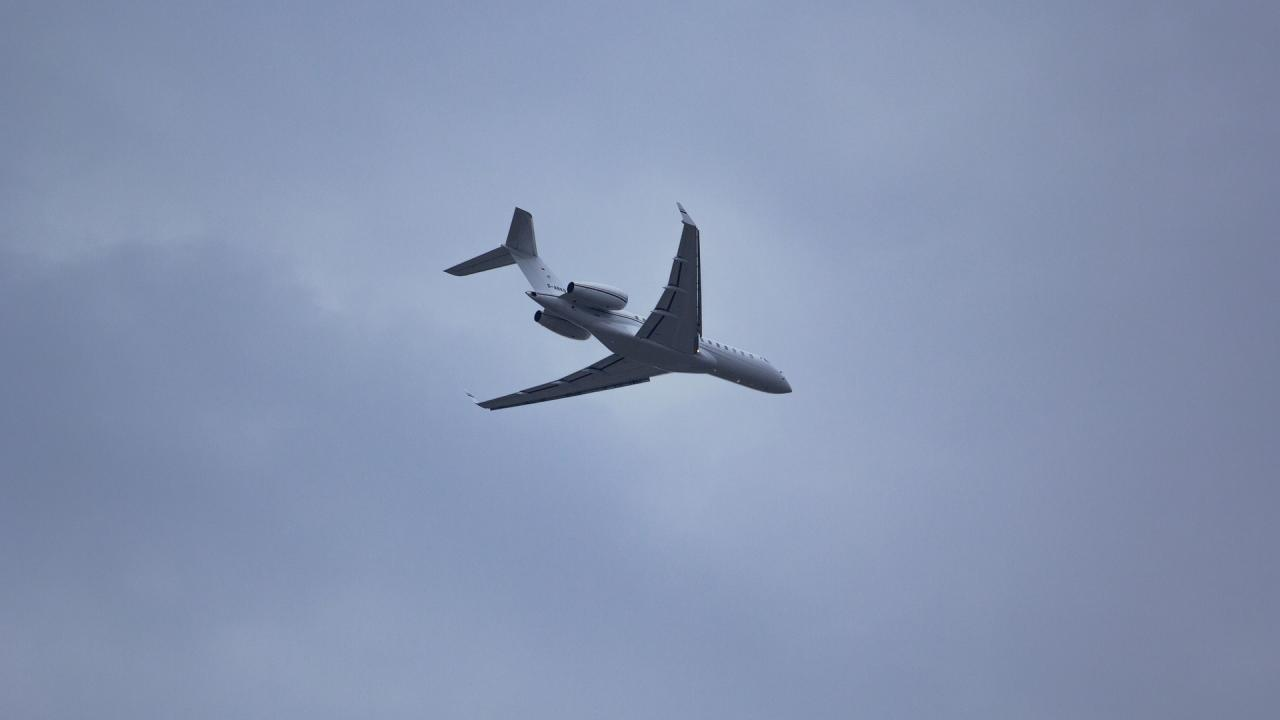Airplane: (434, 185, 806, 424)
